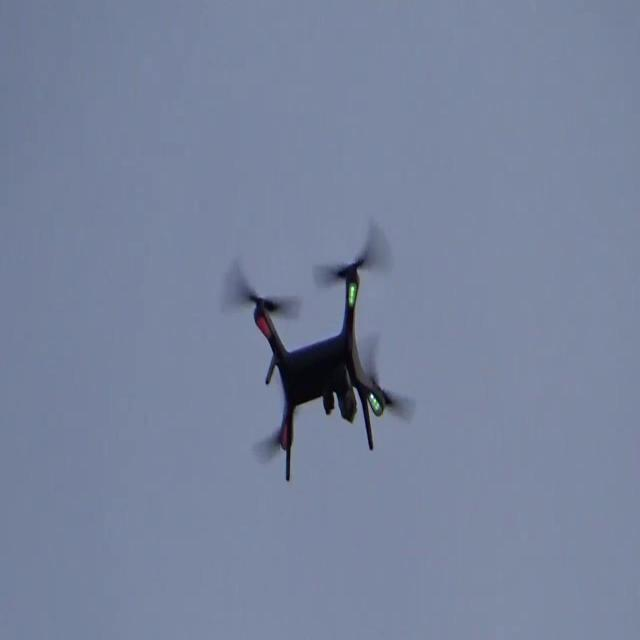drone: (222, 220, 414, 484)
